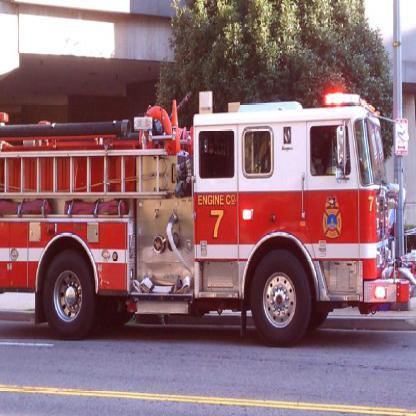fire-truck: (0, 56, 406, 399)
